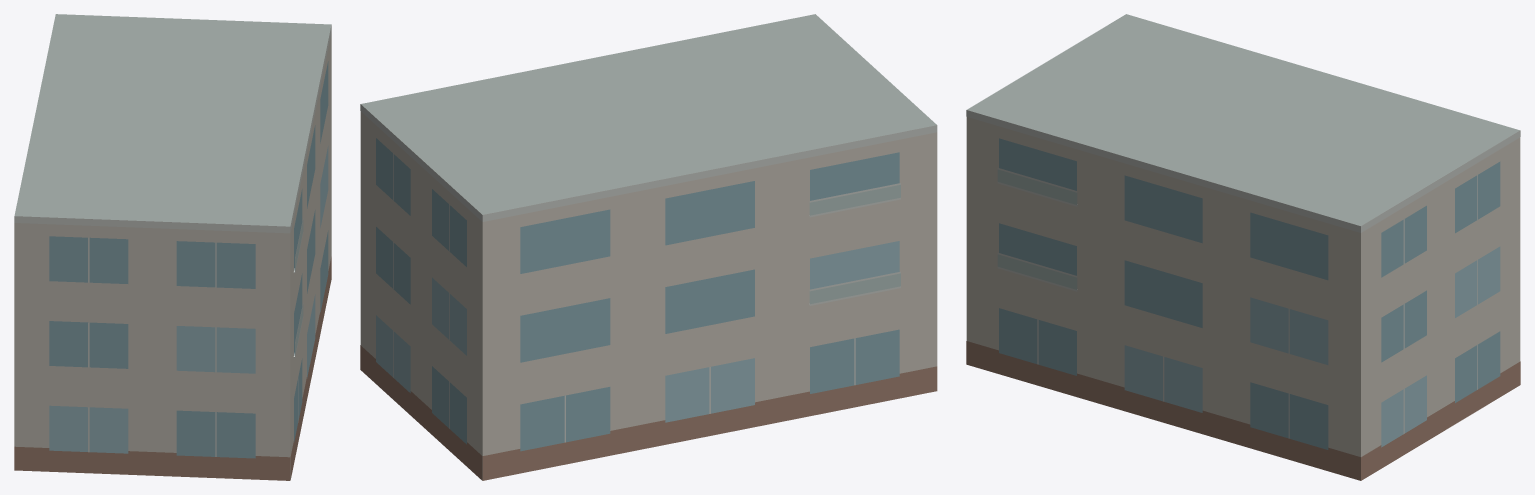
File: survey-upis-32699836.glb
3 views of the same model, side by side, from view 1: azimuth 30°, elevation 25°; view 2: azimuth 150°, elevation 25°; view 3: azimuth 270°, elevation 25° (orthographic). The views are drawn at different scales.
Parts seen in each view (by area): view 1: survey-upis-32699836.tmp; view 2: survey-upis-32699836.tmp; view 3: survey-upis-32699836.tmp.
Boxes of the visible parts, x1,y1,x2,y2 form: survey-upis-32699836.tmp: [14, 14, 331, 480]; survey-upis-32699836.tmp: [360, 14, 937, 480]; survey-upis-32699836.tmp: [966, 14, 1520, 480].
Size of the model in its own units: 16.37 by 9.15 by 18.05.
